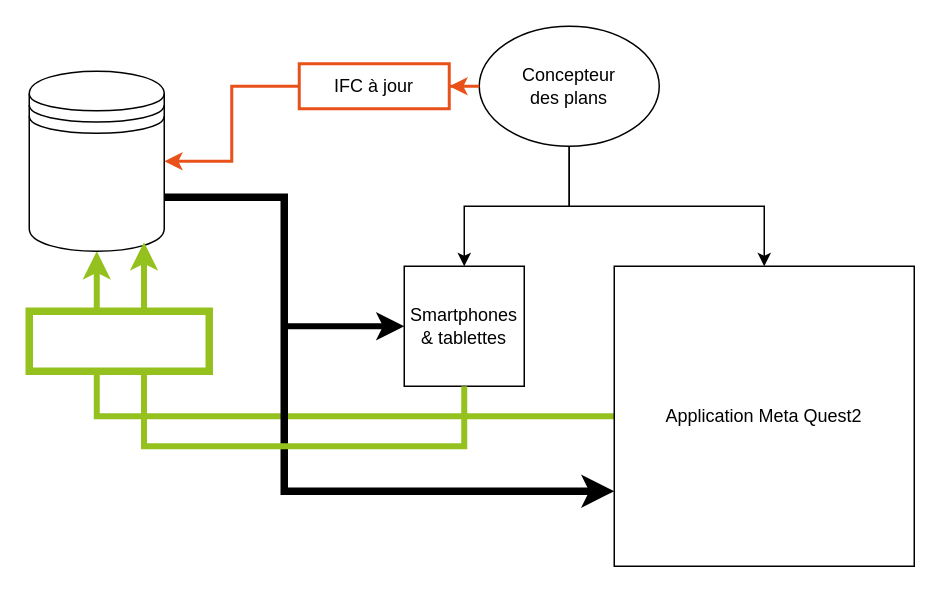
This 941x593 diagram has some shape labels left out. The shapes that lost their labels are listed below. From the top down, each one's centre as x and y in pixels, then its label:
At (x=96, y=160): "Serveur".
At (x=118, y=340): "Mises à jour du terrain".
